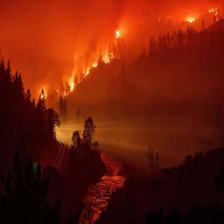fire: (30, 22, 146, 114)
